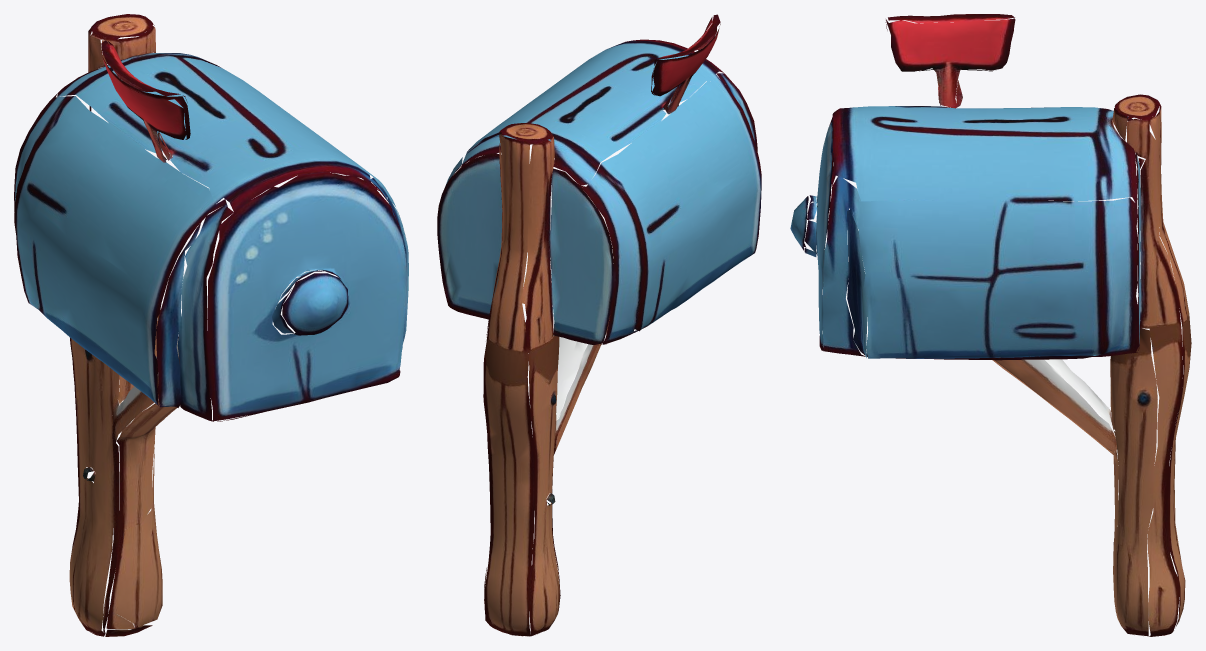
File: posta_kutusu.glb
3 renders of one model, left to right at view 1: azimuth 30°, elevation 25°; view 2: azimuth 150°, elevation 25°; view 3: azimuth 270°, elevation 25°, orthographic. The views are drawn at different scales.
Visible parts, largest first — view 1: geometry_0; view 2: geometry_0; view 3: geometry_0.
Boxes of the visible parts, x1=… form: geometry_0: x1=14, y1=14, x2=408, y2=636; geometry_0: x1=437, y1=14, x2=761, y2=636; geometry_0: x1=790, y1=14, x2=1191, y2=636.
Bounding box in the file's own units: 0.4135 × 0.9994 × 0.6376.
Materials: 1 (1 with a texture image).
